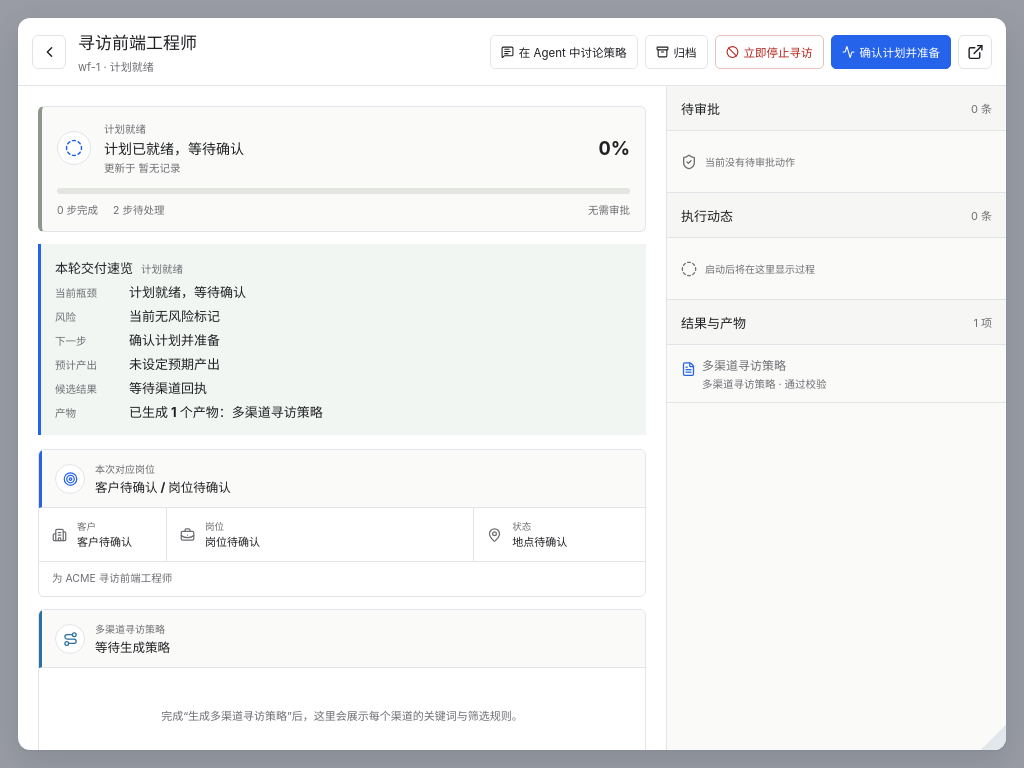
Scenario: 工作流产物查看 › 点击产物按需读取正文，显示中文类型和下载入口
expect the text "多渠道寻访策略 · 通过校验" is shown: met, box x1=702 y1=378 x2=826 y2=391
Click the button with aria-label "查看产物：多渠道寻访策略" at (744, 366), box x1=667 y1=345 x2=1006 y2=403
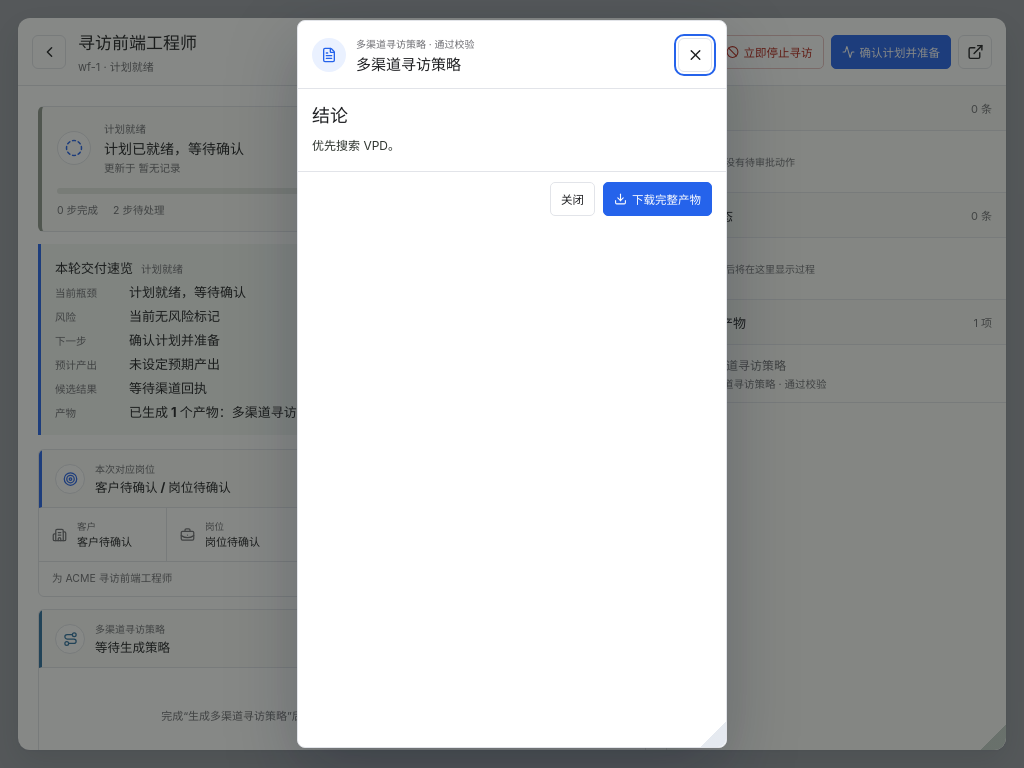
expect the heading "多渠道寻访策略" is shown: met, box x1=356 y1=54 x2=461 y2=74
expect the heading "结论" is shown: met, box x1=312 y1=105 x2=348 y2=126
